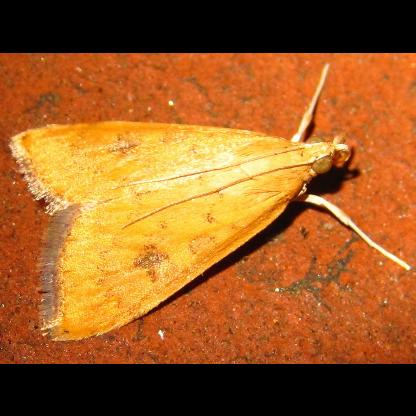Asian Corn Borer Moth: (6, 61, 414, 343)
